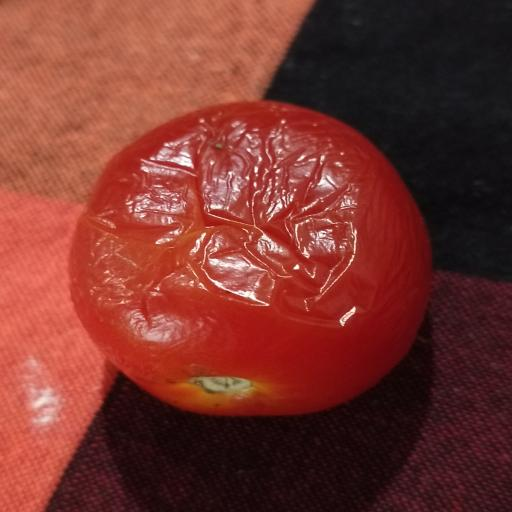spoiled: (70, 101, 431, 416)
